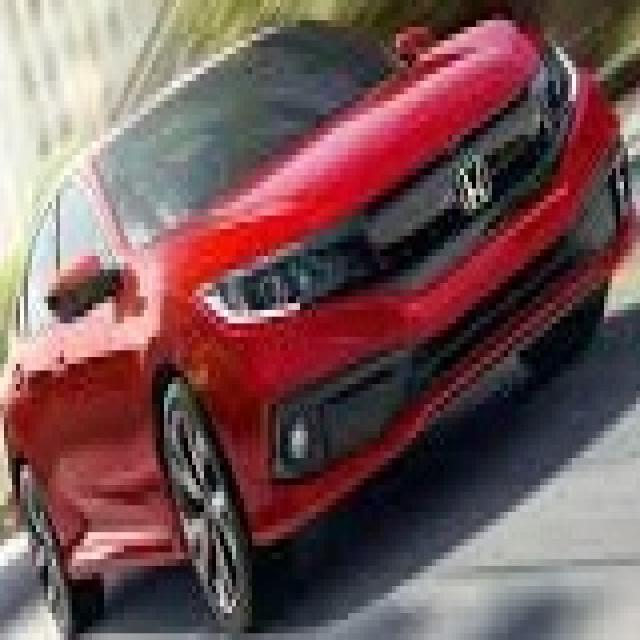red: (0, 25, 632, 612)
